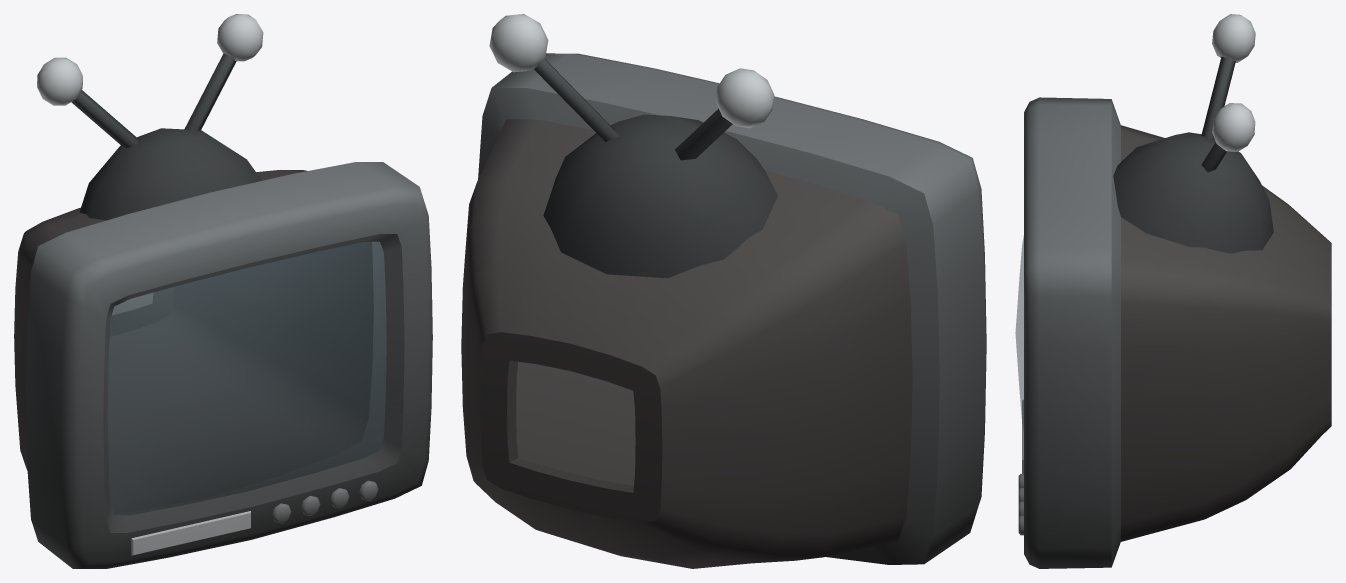
Rendered from Hat_23.glb.
3 renders of one model, left to right at view 1: azimuth 30°, elevation 25°; view 2: azimuth 150°, elevation 25°; view 3: azimuth 270°, elevation 25°, orthographic. The views are drawn at different scales.
Visible parts, largest first — view 1: Hat_23; view 2: Hat_23; view 3: Hat_23.
Part boxes in pixels (x1=…): Hat_23: x1=14, y1=14, x2=432, y2=568; Hat_23: x1=461, y1=14, x2=986, y2=568; Hat_23: x1=1015, y1=14, x2=1331, y2=568.
Size of the model in its own units: 0.7778 by 0.8765 by 0.5678.
2 materials, 2 textured.
